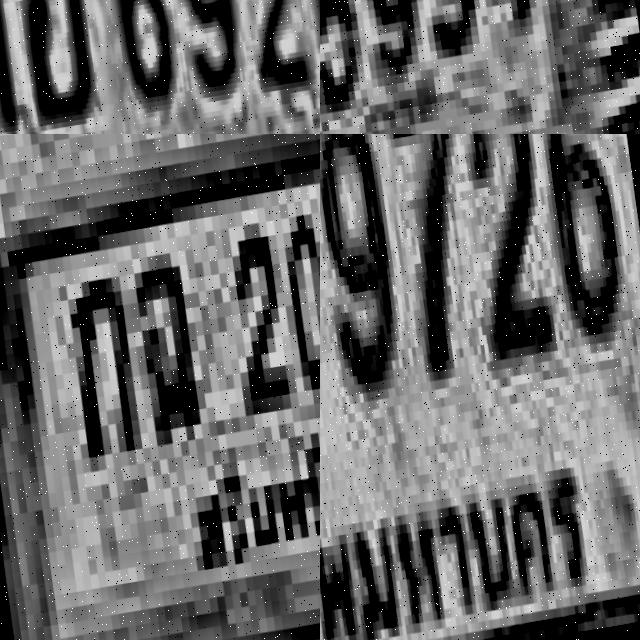license-plate: (0, 134, 320, 640), (320, 134, 640, 640), (0, 0, 320, 134), (320, 0, 640, 134)
